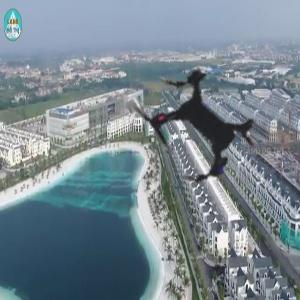drone: (92, 25, 300, 233)
